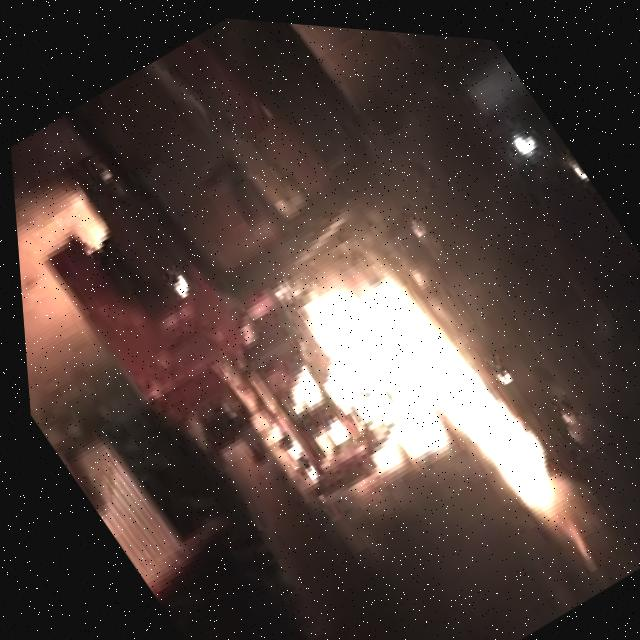Fire: (243, 207, 597, 598)
